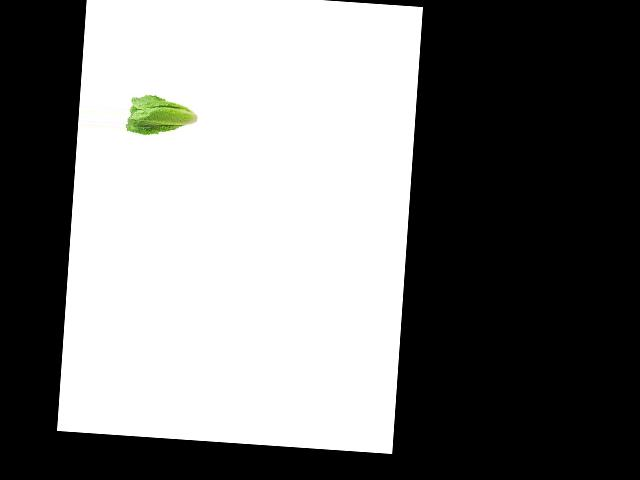lettuce: (124, 91, 200, 141)
